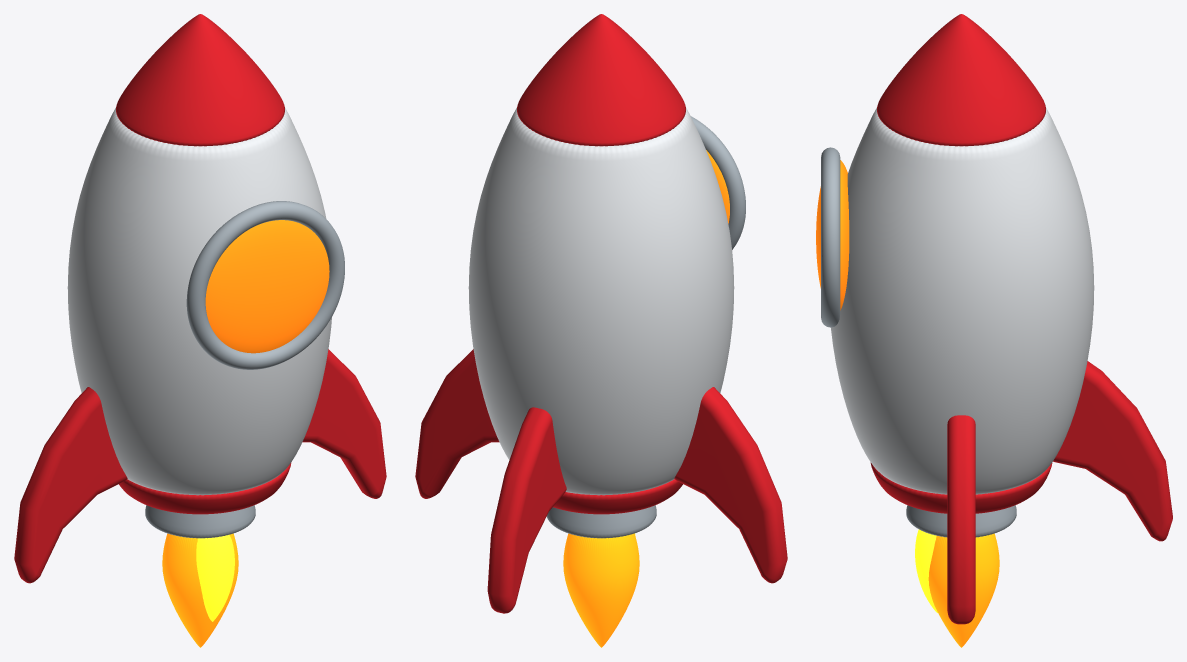
File: rocket.glb
3 renders of one model, left to right at view 1: azimuth 30°, elevation 25°; view 2: azimuth 150°, elevation 25°; view 3: azimuth 270°, elevation 25°, orthographic.
Visible parts, largest first — view 1: Hull, Red nose cone, Orange circular window, Red swept fin 2, Silver porthole rim, Red swept fin 1, Outer exhaust flame, Red engine collar, Golden flame heart, Engine nozzle; view 2: Hull, Red nose cone, Red swept fin 2, Red swept fin 3, Red swept fin 1, Outer exhaust flame, Engine nozzle, Red engine collar, Silver porthole rim; view 3: Hull, Red nose cone, Red swept fin 3, Red swept fin 1, Outer exhaust flame, Silver porthole rim, Red engine collar, Engine nozzle, Orange circular window, Golden flame heart.
Boxes of the visible parts, left/top/right/bottom form: Hull: left=67, top=108, right=331, bottom=495; Red nose cone: left=116, top=14, right=284, bottom=146; Orange circular window: left=205, top=220, right=329, bottom=353; Red swept fin 2: left=14, top=387, right=127, bottom=583; Silver porthole rim: left=186, top=201, right=344, bottom=369; Red swept fin 1: left=302, top=349, right=386, bottom=498; Outer exhaust flame: left=162, top=533, right=238, bottom=647; Red engine collar: left=119, top=462, right=291, bottom=514; Golden flame heart: left=196, top=534, right=234, bottom=621; Engine nozzle: left=145, top=505, right=255, bottom=538; Hull: left=468, top=108, right=734, bottom=495; Red nose cone: left=517, top=14, right=685, bottom=146; Red swept fin 2: left=674, top=387, right=787, bottom=583; Red swept fin 3: left=487, top=407, right=566, bottom=613; Red swept fin 1: left=415, top=349, right=499, bottom=498; Outer exhaust flame: left=563, top=533, right=639, bottom=647; Engine nozzle: left=546, top=505, right=656, bottom=538; Red engine collar: left=553, top=479, right=682, bottom=514; Silver porthole rim: left=691, top=116, right=745, bottom=249; Hull: left=831, top=108, right=1094, bottom=494; Red nose cone: left=877, top=14, right=1045, bottom=146; Red swept fin 3: left=1053, top=361, right=1172, bottom=541; Red swept fin 1: left=947, top=415, right=975, bottom=624; Outer exhaust flame: left=928, top=533, right=999, bottom=647; Silver porthole rim: left=821, top=147, right=840, bottom=327; Red engine collar: left=870, top=462, right=1052, bottom=513; Engine nozzle: left=906, top=505, right=1016, bottom=537; Orange circular window: left=816, top=160, right=849, bottom=310; Golden flame heart: left=915, top=529, right=937, bottom=612.
Size of the model in its own units: 4.2 by 6.95 by 3.54.
